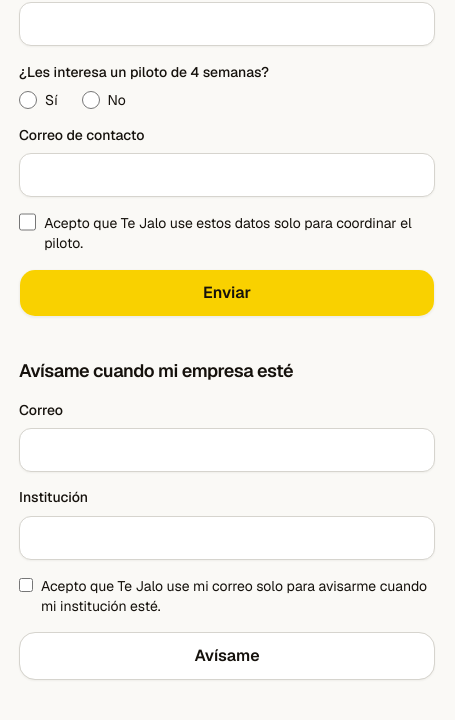
Test case: institutions page (US-033) › sends nothing until the person accepts how their data is used
(page scrolled)
Type "ana@empresabeta.pe" into the field labelled "Correo".
click(227, 450); type("ana@empresabeta.pe")  # box [19,428,435,472]
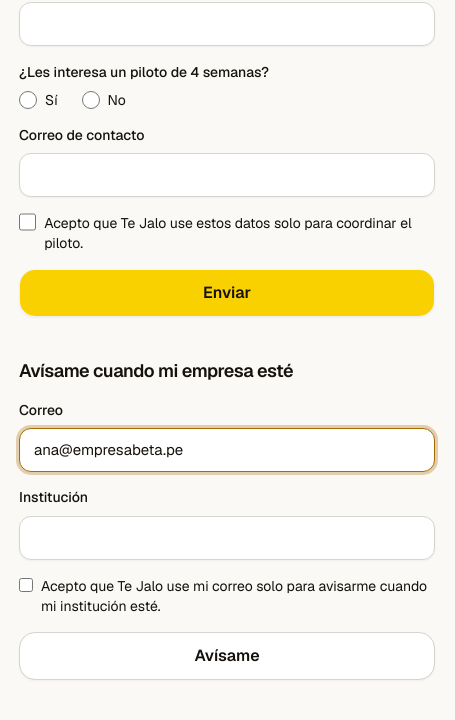
Type "Empresa Beta S.A.C." into the field labelled "Institución".
click(227, 538); type("Empresa Beta S.A.C.")  # box [19,516,435,560]
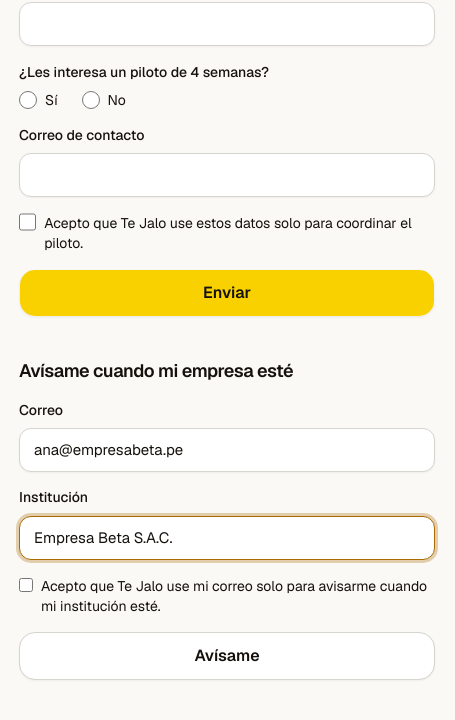
Click the button "Avísame".
click(227, 656)  # box [19,632,435,680]
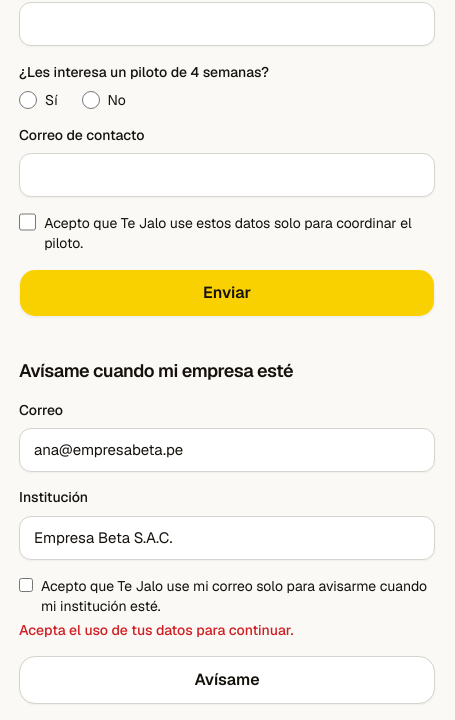
Now the text "Acepta el uso de tus datos para continuar." is shown, box [19,620,293,638]
